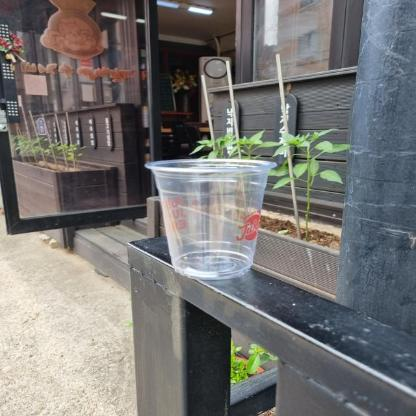Plastic Cup: (144, 158, 280, 278)
